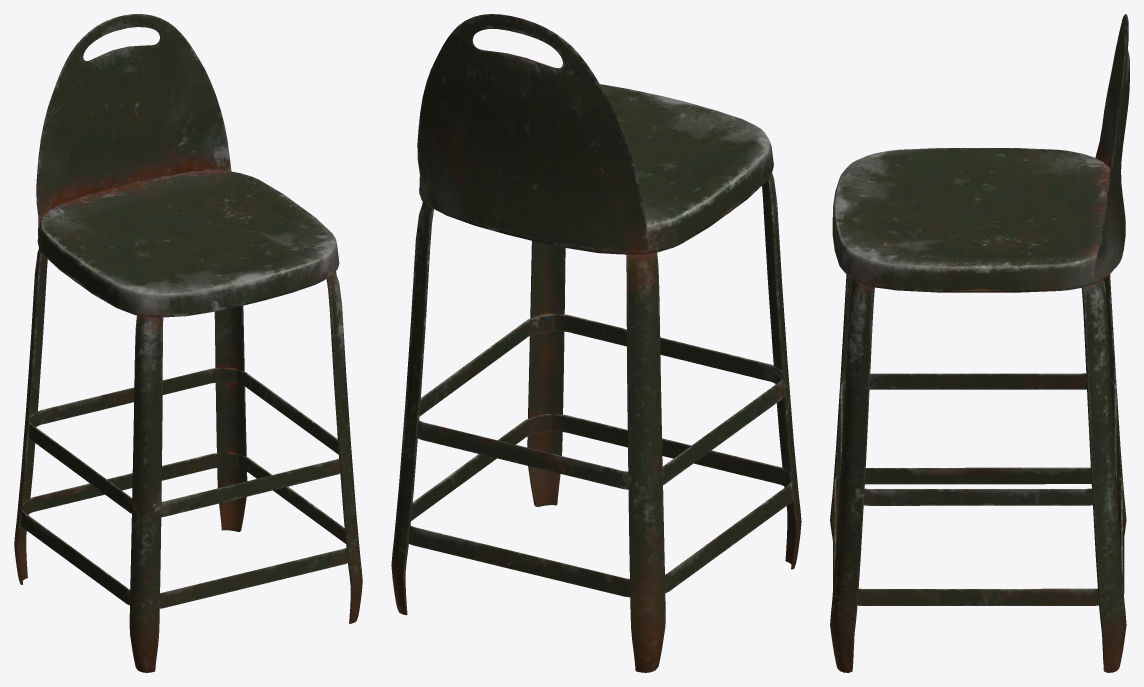
File: bar-stool-backed.dcf067140c.glb
3 renders of one model, left to right at view 1: azimuth 30°, elevation 25°; view 2: azimuth 150°, elevation 25°; view 3: azimuth 270°, elevation 25°, orthographic. The views are drawn at different scales.
Visible parts, largest first — view 1: metal_stool_03; view 2: metal_stool_03; view 3: metal_stool_03.
Part boxes in pixels (bbox=[...]): metal_stool_03: bbox=[14, 14, 362, 672]; metal_stool_03: bbox=[391, 14, 801, 672]; metal_stool_03: bbox=[830, 14, 1129, 672].
Size of the model in its own units: 0.4606 by 1.02 by 0.4706.
Materials: 1 (1 with a texture image).
